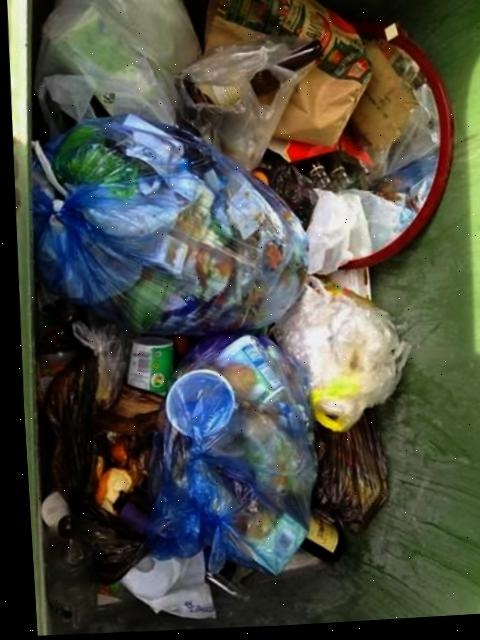Disposable: (113, 554, 206, 619)
Garbage: (26, 0, 450, 635)
Glass_bottle: (291, 154, 362, 194), (293, 517, 337, 565)
Plastic_Bag: (31, 116, 302, 335), (139, 335, 310, 578), (38, 353, 139, 582), (33, 0, 197, 135), (267, 279, 405, 434), (176, 42, 308, 171), (305, 413, 381, 538)
Plastic_Container: (121, 338, 168, 397)
Plastic_bottle: (38, 517, 89, 630)
